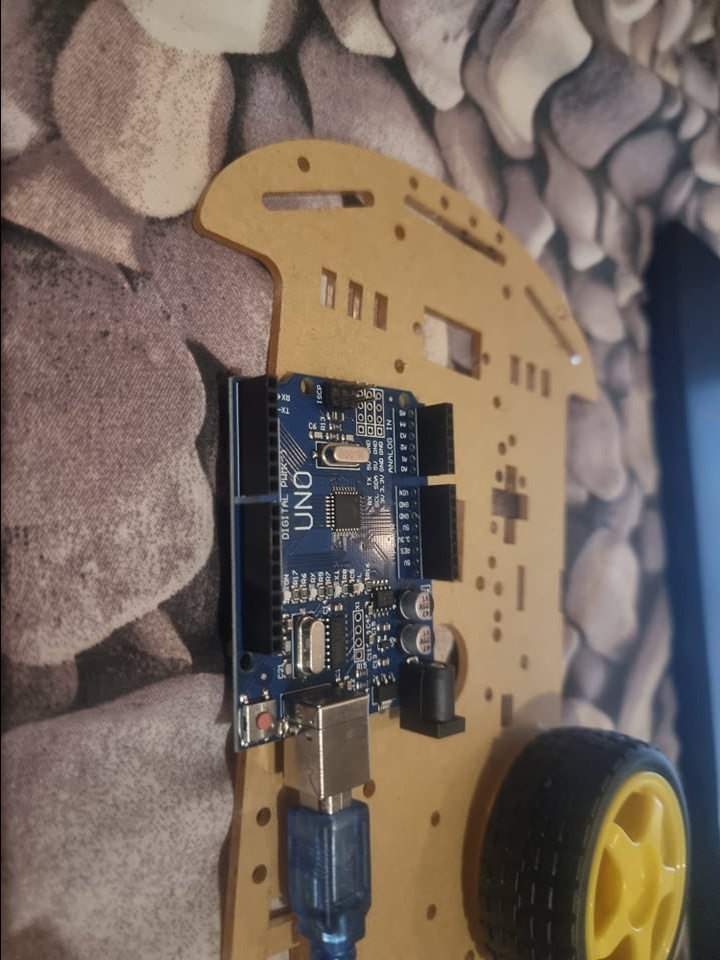UNO R3: (232, 372, 469, 802)
